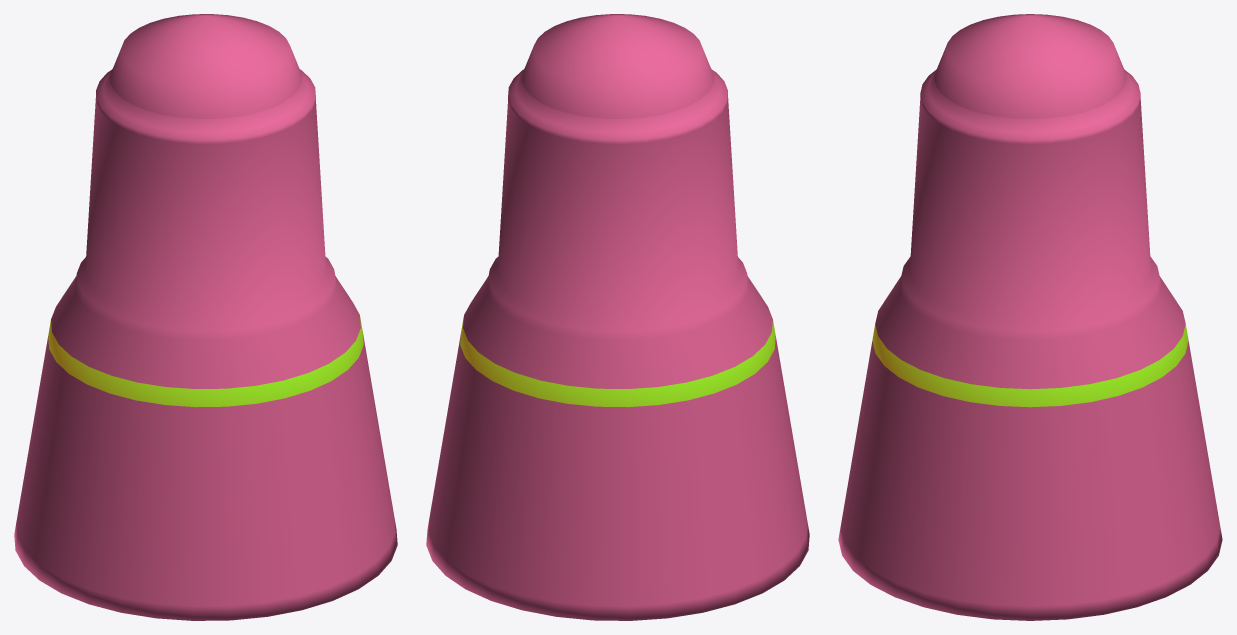
The model's file is bullet02.fbx.
3 views of the same model, side by side, from view 1: azimuth 30°, elevation 25°; view 2: azimuth 150°, elevation 25°; view 3: azimuth 270°, elevation 25° (orthographic).
Visible parts, largest first — view 1: Cylinder; view 2: Cylinder; view 3: Cylinder.
Boxes of the visible parts, left/top/right/bottom form: Cylinder: left=14, top=14, right=397, bottom=620; Cylinder: left=426, top=14, right=809, bottom=620; Cylinder: left=838, top=14, right=1222, bottom=620.
Size of the model in its own units: 0.0193 by 0.029 by 0.0193.
